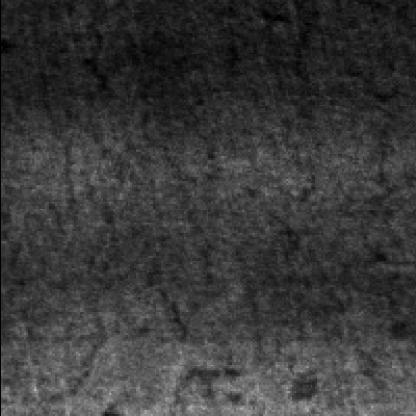crazing: (196, 73, 360, 374), (40, 0, 202, 231)
